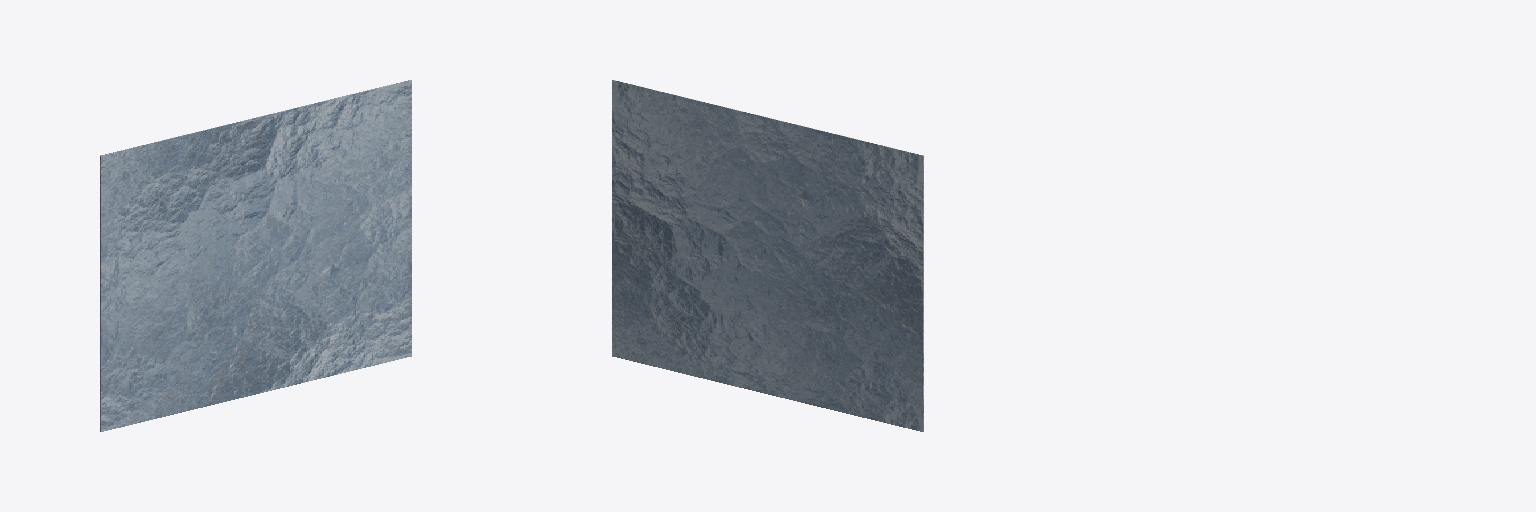
The picture shows the model from 3 angles: view 1: azimuth 30°, elevation 25°; view 2: azimuth 150°, elevation 25°; view 3: azimuth 270°, elevation 25°; orthographic projection.
Visible parts, largest first — view 1: Cube; view 2: Cube; view 3: none.
Boxes of the visible parts, x1,y1,x2,y2 form: Cube: [100, 80, 411, 431]; Cube: [612, 80, 923, 431].
Size of the model in its own units: 200 by 170 by 0.5.
Materials: 1 (1 with a texture image).